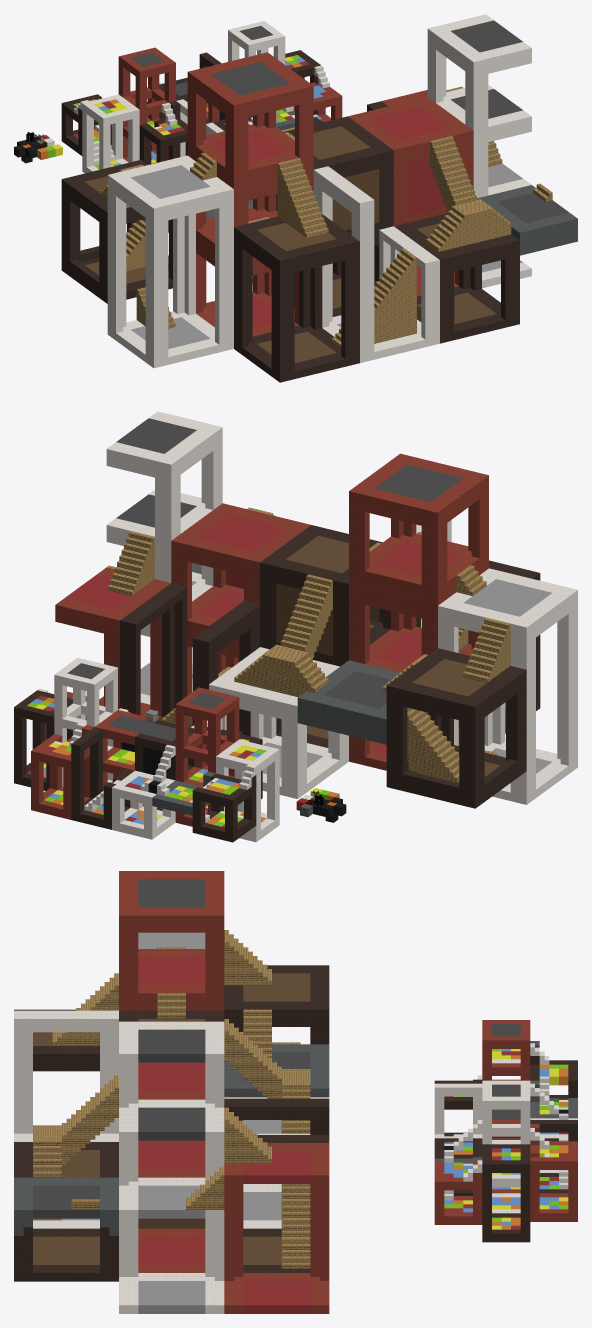
The model's file is minecraft.obj.
3 renders of one model, top to bottom at view 1: azimuth 30°, elevation 25°; view 2: azimuth 150°, elevation 25°; view 3: azimuth 270°, elevation 25°, orthographic. The views are drawn at different scales.
Bounding box in the file's own units: 520 × 320 × 590.
